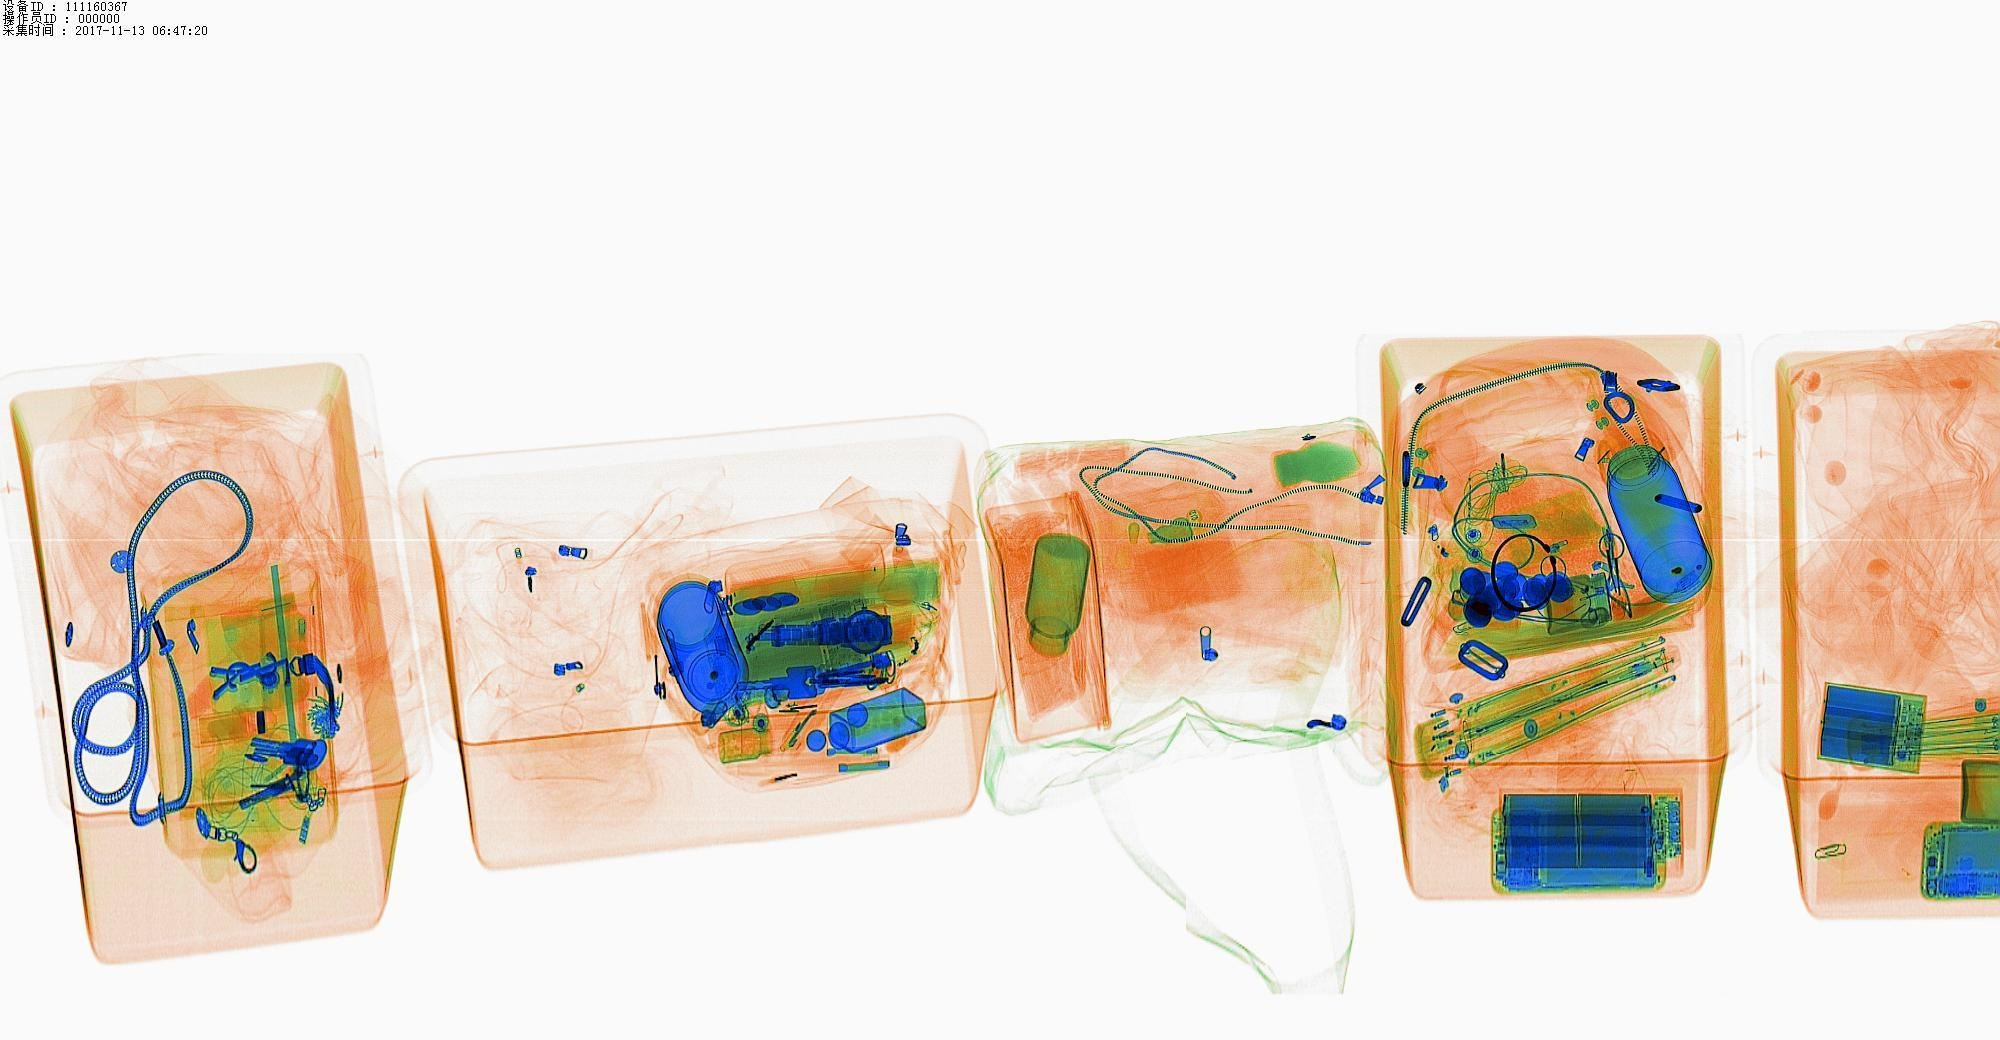core: (1495, 793, 1683, 869), (1835, 683, 1927, 767)
